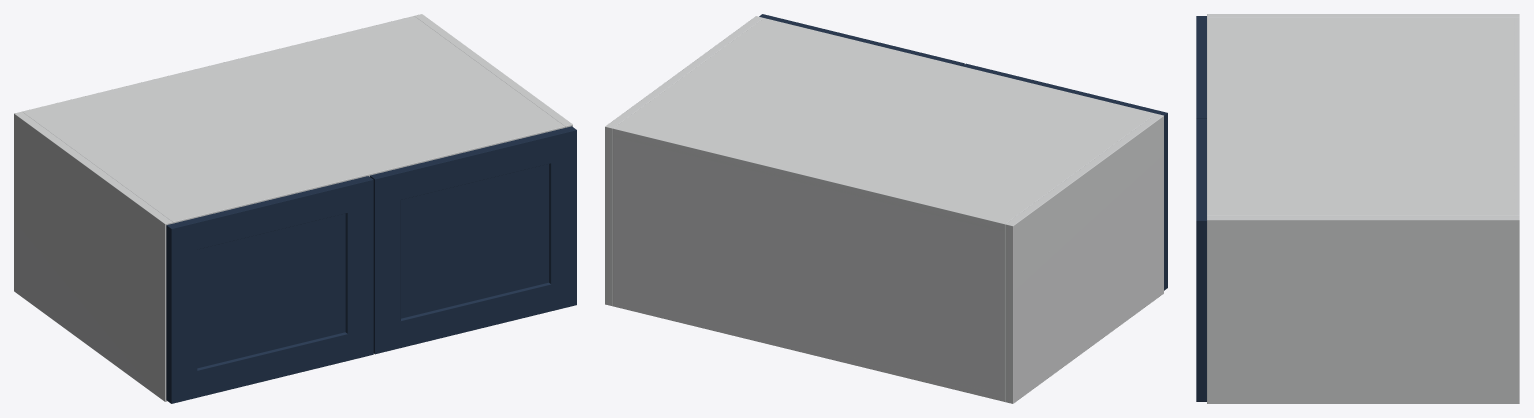
Rendered from oppein-pb-bss-w361524.glb.
3 views of the same model, side by side, from view 1: azimuth 30°, elevation 25°; view 2: azimuth 150°, elevation 25°; view 3: azimuth 270°, elevation 25° (orthographic). The views are drawn at different scales.
Parts seen in each view (by area): view 1: Cabinet top, Door, Door.001, Cabinet side, Cabinet side.001, Cabinet back; view 2: Cabinet back, Cabinet top, Cabinet side, Cabinet side.001, Door, Door.001, Cabinet bottom; view 3: Cabinet top, Cabinet side.001, Door.001, Cabinet back, Cabinet side, Door.
Part boxes in pixels (<box>): Cabinet top: <box>22,16,564,223</box>; Door: <box>166,176,373,403</box>; Door.001: <box>370,126,576,354</box>; Cabinet side: <box>14,111,172,401</box>; Cabinet side.001: <box>414,14,572,127</box>; Cabinet back: <box>64,16,416,103</box>; Cabinet back: <box>613,126,1007,401</box>; Cabinet top: <box>613,18,1155,231</box>; Cabinet side: <box>1005,113,1163,403</box>; Cabinet side.001: <box>605,16,763,306</box>; Door: <box>963,63,1167,290</box>; Door.001: <box>759,14,964,66</box>; Cabinet bottom: <box>745,331,1004,401</box>; Cabinet top: <box>1207,18,1519,215</box>; Cabinet side.001: <box>1207,216,1519,403</box>; Door.001: <box>1196,118,1206,401</box>; Cabinet back: <box>1513,18,1519,215</box>; Cabinet side: <box>1207,14,1519,17</box>; Door: <box>1196,16,1206,118</box>.
Bounding box in the file's own units: 0.9144 × 0.381 × 0.6064.
